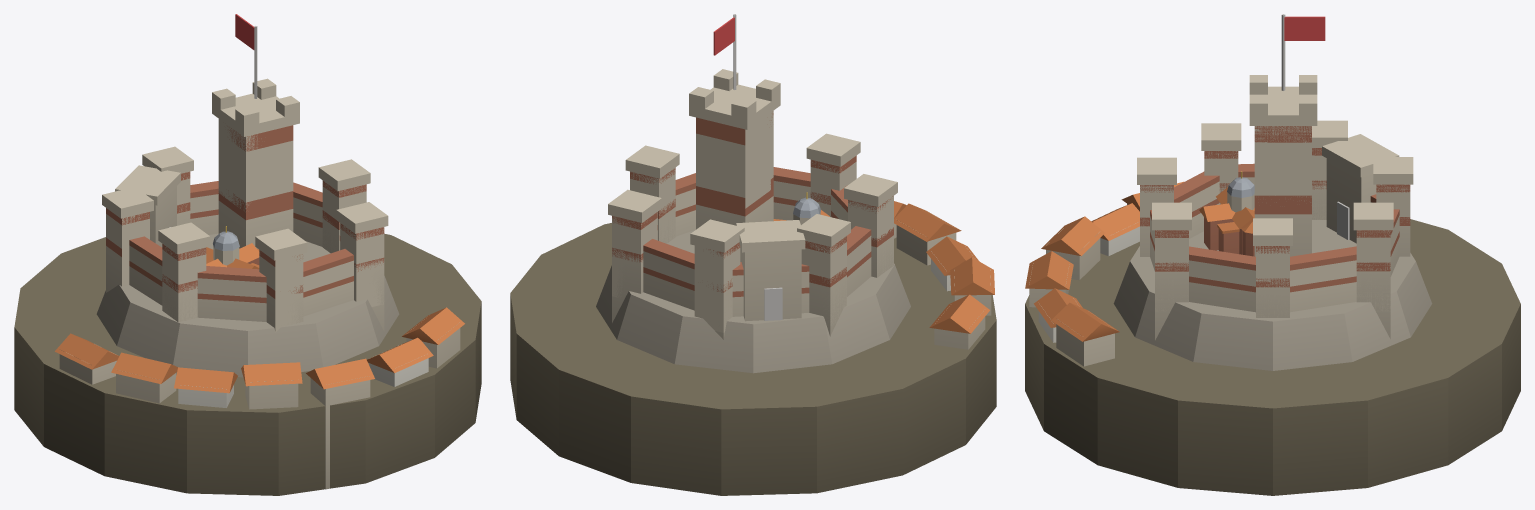
The model's file is castle_byz_a.glb.
3 views of the same model, side by side, from view 1: azimuth 30°, elevation 25°; view 2: azimuth 150°, elevation 25°; view 3: azimuth 270°, elevation 25° (orthographic). The views are drawn at different scales.
Visible parts, largest first — view 1: castle_byz_a, Cube.077, Cube.061, Cube.071, Cube.051, Cube.008, Cube.041; view 2: castle_byz_a, Cube.028, Cube.077, Cube.051, Cube.041, Cube.008, Cube.018, Cube.061; view 3: castle_byz_a, Cube.008, Cube.071, Cube.018, Cube.077, Cube.041, Cube.051.
Part boxes in pixels (left/top/right/bottom): castle_byz_a: left=14, top=14, right=481, bottom=495; Cube.077: left=218, top=119, right=261, bottom=212; Cube.061: left=259, top=250, right=303, bottom=332; Cube.071: left=340, top=223, right=384, bottom=306; Cube.051: left=162, top=245, right=205, bottom=322; Cube.008: left=322, top=182, right=366, bottom=253; Cube.041: left=122, top=213, right=148, bottom=286; castle_byz_a: left=510, top=14, right=996, bottom=495; Cube.028: left=694, top=244, right=740, bottom=332; Cube.077: left=745, top=111, right=773, bottom=208; Cube.051: left=848, top=196, right=893, bottom=274; Cube.041: left=801, top=236, right=846, bottom=325; Cube.008: left=630, top=168, right=675, bottom=243; Cube.018: left=612, top=216, right=647, bottom=297; Cube.061: left=810, top=160, right=856, bottom=215; castle_byz_a: left=1025, top=14, right=1520, bottom=495; Cube.008: left=1256, top=246, right=1289, bottom=317; Cube.071: left=1155, top=230, right=1188, bottom=311; Cube.018: left=1356, top=230, right=1390, bottom=311; Cube.077: left=1254, top=126, right=1311, bottom=202; Cube.041: left=1312, top=148, right=1326, bottom=219; Cube.051: left=1204, top=151, right=1237, bottom=203.
Bounding box in the file's own units: 1.9 × 1.62 × 1.9.
